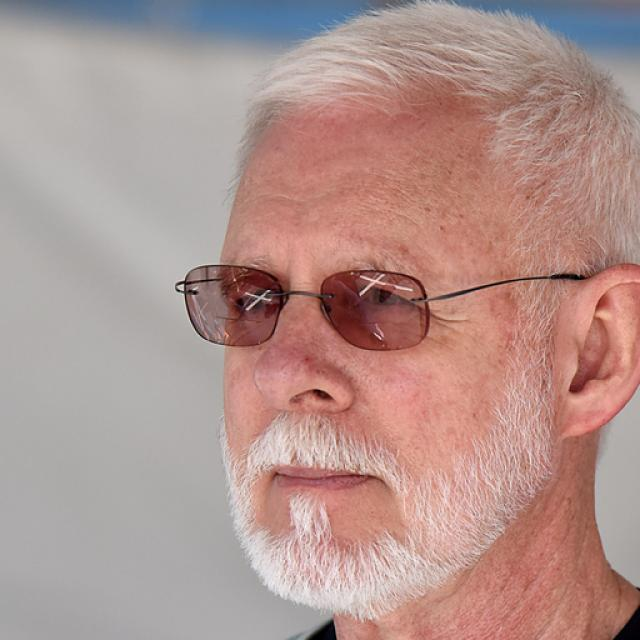Pigmentation: (350, 149, 470, 255), (257, 302, 361, 392)
